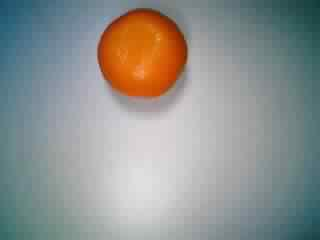orange: (97, 6, 188, 102)
